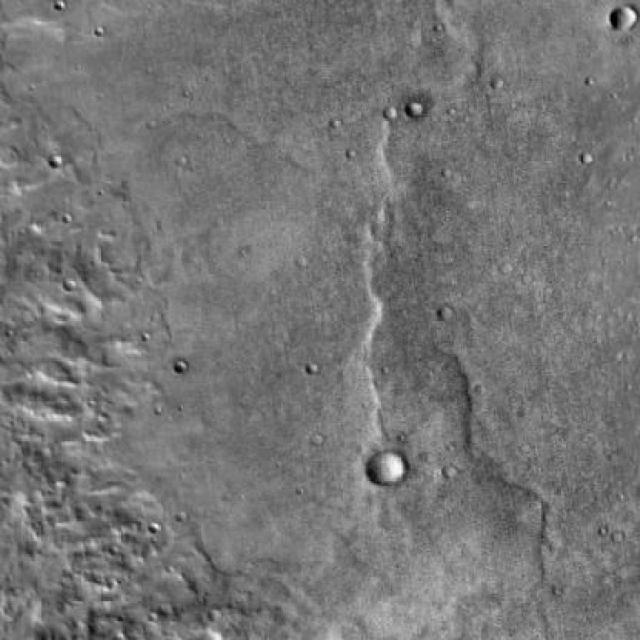crater: (365, 449, 407, 486), (611, 6, 640, 28)
